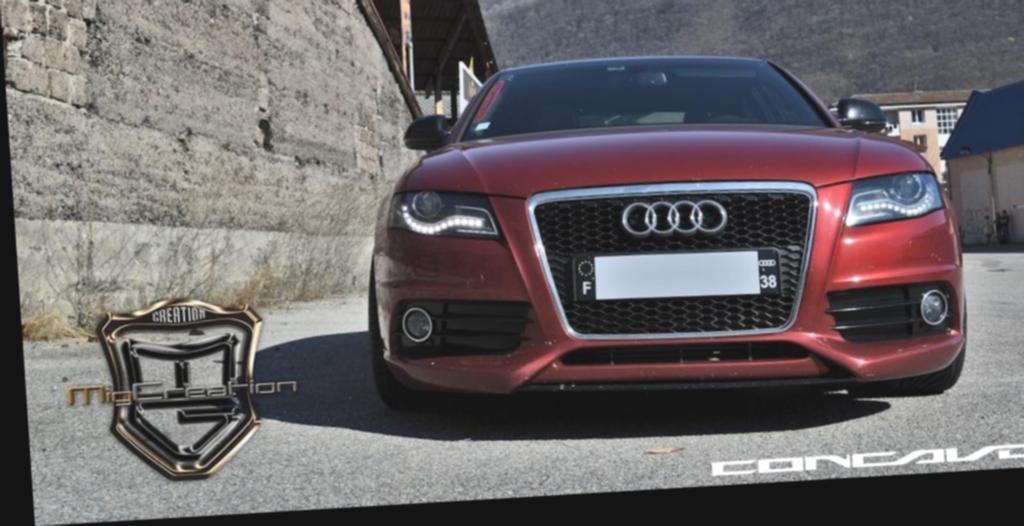License_Plate: (571, 235, 781, 304)
